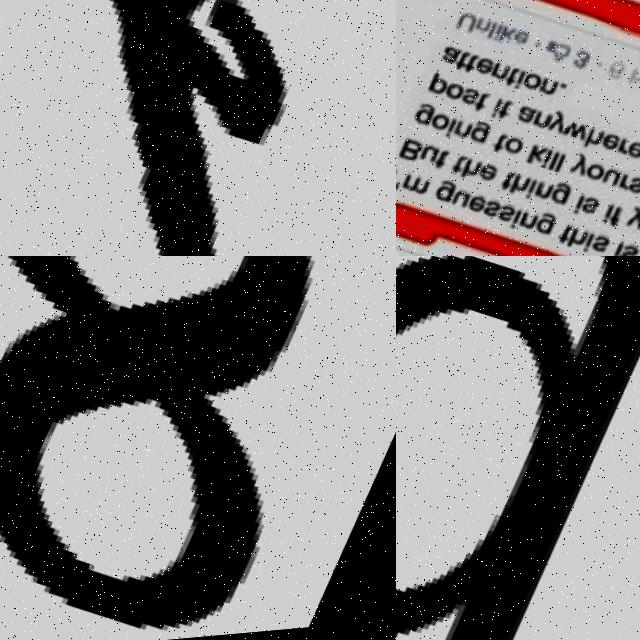3: (572, 53, 594, 76)
6: (606, 64, 630, 89)
8: (0, 256, 396, 640)
G: (396, 256, 640, 640)
